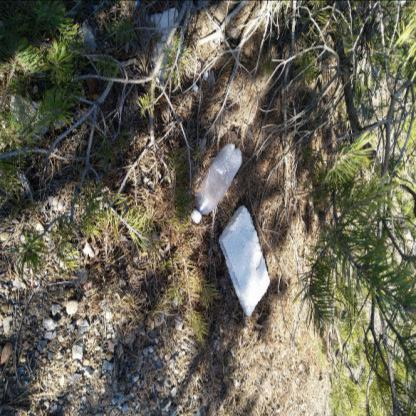Bottle: (190, 211, 201, 223)
Bottle cap: (190, 143, 242, 223)
Plastic bag - wrapper: (10, 93, 65, 140)
Styrofoam piece: (219, 205, 270, 316), (194, 84, 199, 92)
